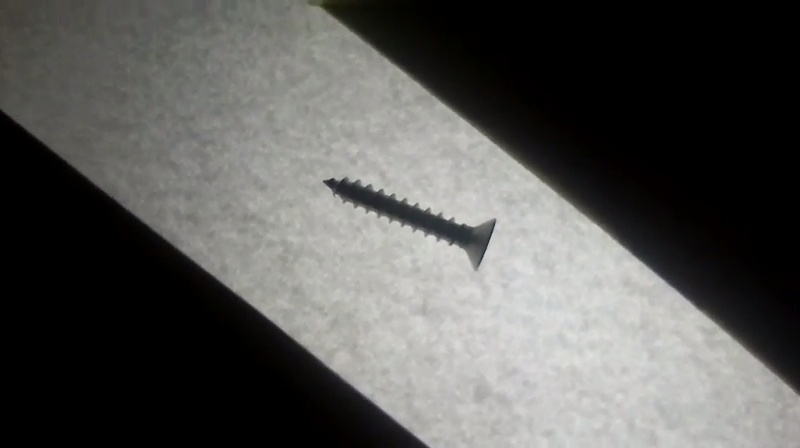S001: (315, 174, 498, 274)
